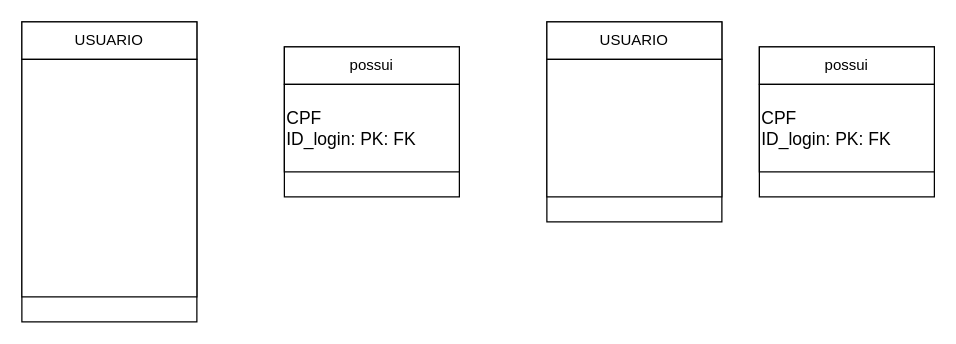
Some shapes in this 956 by 344 pixel diagram are drawn without their labels. The shapes that lost their labels are listed below. From the top down, each one's box as (x1, y1, x2, y2) in pixels, then its label:
(546, 58, 722, 197): ID_login: PK gerente? senha
(21, 58, 197, 297): cpf: PK nome email telefone celular cep estado cidade rua numero
